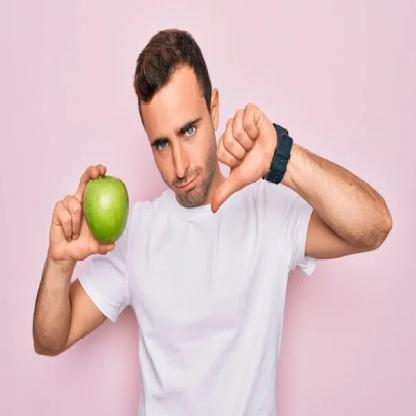thumb_down: (208, 96, 278, 214)
